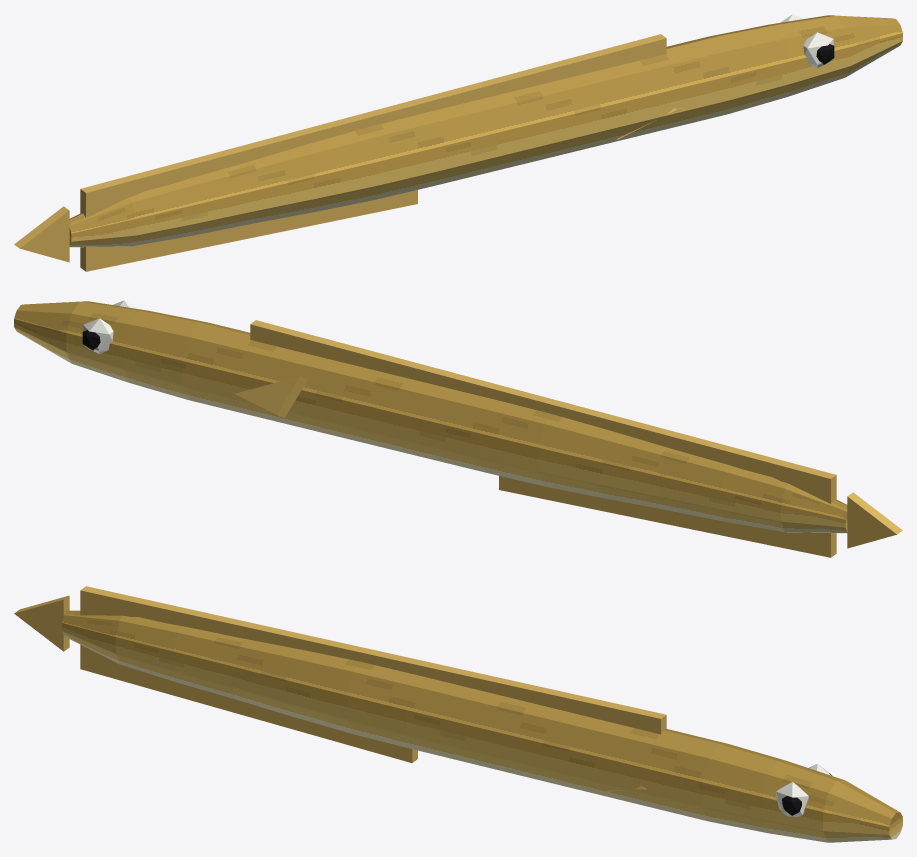
The model's file is golden_sand_eel.glb.
3 views of the same model, one above another, from view 1: azimuth 30°, elevation 25°; view 2: azimuth 150°, elevation 25°; view 3: azimuth 330°, elevation 25° (orthographic).
Parts seen in each view (by area): view 1: fish_golden_sand_eel; view 2: fish_golden_sand_eel; view 3: fish_golden_sand_eel.
Boxes of the visible parts, x1=… form: fish_golden_sand_eel: x1=14, y1=14, x2=902, y2=271; fish_golden_sand_eel: x1=14, y1=300, x2=902, y2=557; fish_golden_sand_eel: x1=14, y1=586, x2=902, y2=842.
Bounding box in the file's own units: 1.06 × 0.121 × 0.1047.
Materials: 4 (1 with a texture image).
